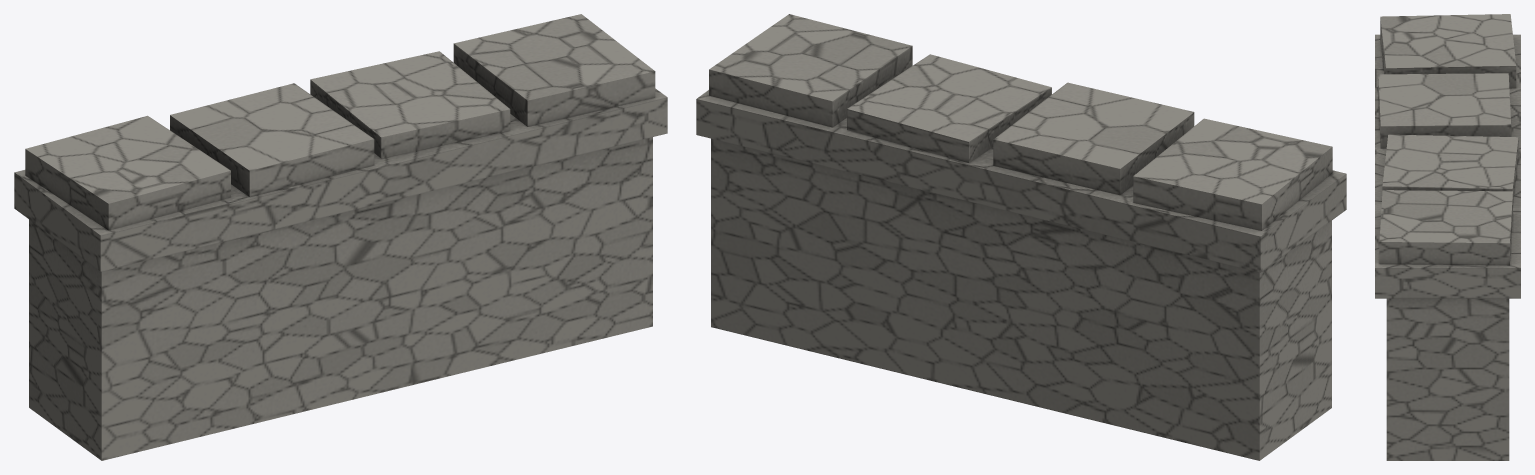
Rendered from StoneWall.glb.
The picture shows the model from 3 angles, left to right: view 1: azimuth 30°, elevation 25°; view 2: azimuth 150°, elevation 25°; view 3: azimuth 270°, elevation 25°; orthographic projection. The views are drawn at different scales.
Visible parts, largest first — view 1: StoneWall; view 2: StoneWall; view 3: StoneWall.
Part boxes in pixels (<box>): StoneWall: <box>14,14,667,460</box>; StoneWall: <box>696,14,1346,460</box>; StoneWall: <box>1375,14,1520,460</box>.
Size of the model in its own units: 3.6 by 1.57 by 0.95.
1 material, 1 textured.
